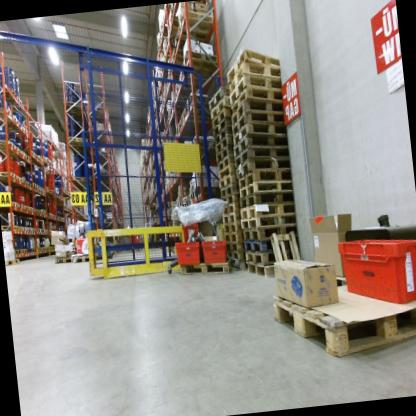pallet: (262, 277, 416, 365), (222, 42, 282, 82), (228, 105, 288, 144), (225, 57, 284, 95), (224, 70, 284, 105), (226, 81, 285, 114), (228, 94, 287, 126), (230, 118, 289, 150), (176, 45, 224, 83), (231, 129, 289, 158), (243, 243, 307, 269), (233, 152, 293, 179), (175, 4, 217, 42), (232, 144, 291, 171), (237, 164, 294, 191), (240, 229, 299, 254), (176, 259, 237, 283), (241, 218, 299, 243), (239, 208, 299, 231), (238, 188, 294, 211), (172, 27, 220, 53), (171, 77, 212, 107), (237, 174, 295, 195), (239, 201, 298, 220), (175, 116, 215, 141), (153, 33, 190, 58), (166, 0, 209, 20), (179, 102, 214, 126), (182, 92, 214, 118), (166, 13, 193, 42), (208, 84, 237, 111), (212, 141, 239, 167), (208, 105, 235, 130), (168, 45, 193, 71), (59, 96, 87, 118), (246, 261, 277, 280), (215, 170, 243, 190), (190, 181, 219, 200), (210, 93, 231, 119), (85, 98, 108, 121), (212, 123, 235, 146), (212, 200, 245, 216), (214, 150, 239, 170), (88, 214, 119, 230), (210, 118, 233, 139), (217, 183, 244, 200), (214, 134, 238, 153), (66, 132, 91, 150), (91, 147, 117, 164), (218, 220, 244, 237), (164, 69, 186, 89), (213, 162, 240, 178), (0, 81, 19, 102), (168, 99, 189, 118), (88, 124, 110, 142), (218, 191, 244, 206), (0, 118, 24, 134), (165, 111, 190, 126), (52, 252, 78, 266), (4, 149, 27, 163), (160, 82, 183, 96), (219, 228, 239, 244), (91, 250, 114, 263), (71, 254, 95, 266), (0, 144, 22, 157), (220, 211, 242, 224), (0, 102, 14, 122), (163, 120, 184, 133), (72, 174, 92, 187), (0, 133, 15, 150), (1, 221, 20, 234), (0, 169, 16, 184), (0, 115, 19, 127), (4, 256, 22, 268), (224, 240, 241, 252), (6, 96, 24, 107), (226, 248, 243, 259), (157, 22, 169, 37), (27, 156, 45, 165), (162, 39, 176, 50), (8, 199, 20, 210), (162, 4, 174, 15), (25, 148, 37, 158), (172, 200, 180, 214), (174, 198, 183, 210), (46, 191, 60, 198), (180, 195, 189, 205), (16, 175, 24, 186), (25, 178, 33, 189), (38, 154, 47, 163), (188, 198, 197, 207), (52, 153, 64, 159), (12, 248, 21, 256), (188, 189, 194, 201), (29, 224, 36, 234), (25, 202, 31, 213), (25, 125, 30, 138), (33, 154, 41, 162), (34, 205, 41, 214), (22, 177, 28, 187), (22, 225, 28, 235), (171, 171, 177, 181), (47, 189, 55, 196), (18, 201, 25, 209), (38, 226, 45, 234), (44, 209, 51, 217), (36, 182, 42, 191), (18, 225, 25, 232), (43, 156, 50, 163), (25, 246, 32, 253), (46, 227, 53, 234), (171, 203, 175, 214), (37, 188, 43, 195), (43, 184, 49, 191), (26, 225, 32, 232), (36, 154, 43, 160), (20, 247, 27, 253), (36, 245, 42, 252), (30, 181, 38, 186), (45, 244, 50, 252), (32, 185, 38, 191), (42, 210, 48, 216), (29, 206, 35, 212), (48, 162, 54, 168), (31, 246, 37, 252), (41, 186, 46, 193), (49, 211, 54, 218), (34, 228, 40, 233), (45, 160, 50, 166), (48, 245, 53, 251), (41, 245, 45, 252), (42, 192, 47, 197), (41, 207, 46, 212), (43, 228, 48, 233), (49, 159, 54, 164), (169, 177, 174, 182), (54, 214, 58, 219), (40, 210, 43, 215)
small_load_carrier: (331, 226, 416, 313), (163, 238, 202, 268), (198, 238, 231, 268), (177, 219, 203, 245), (127, 235, 135, 242), (134, 231, 140, 240)
